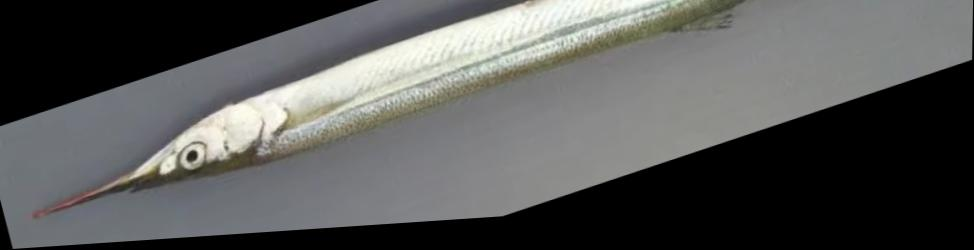fish: (30, 0, 769, 218)
